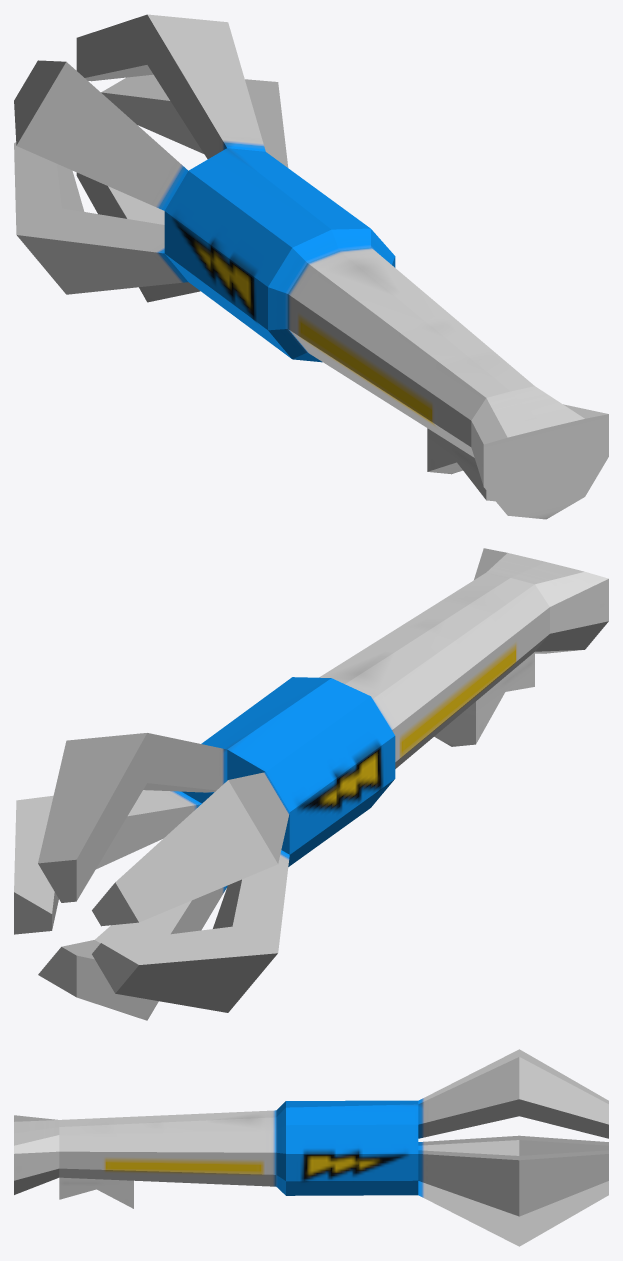
File: ion.fbx
3 renders of one model, top to bottom at view 1: azimuth 30°, elevation 25°; view 2: azimuth 150°, elevation 25°; view 3: azimuth 270°, elevation 25°, orthographic. The views are drawn at different scales.
Visible parts, largest first — view 1: Cylinder; view 2: Cylinder; view 3: Cylinder.
Part boxes in pixels (bbox=[...]): Cylinder: bbox=[14, 14, 608, 519]; Cylinder: bbox=[14, 548, 608, 1020]; Cylinder: bbox=[14, 1049, 608, 1246].
Size of the model in its own units: 220 by 684 by 231.
